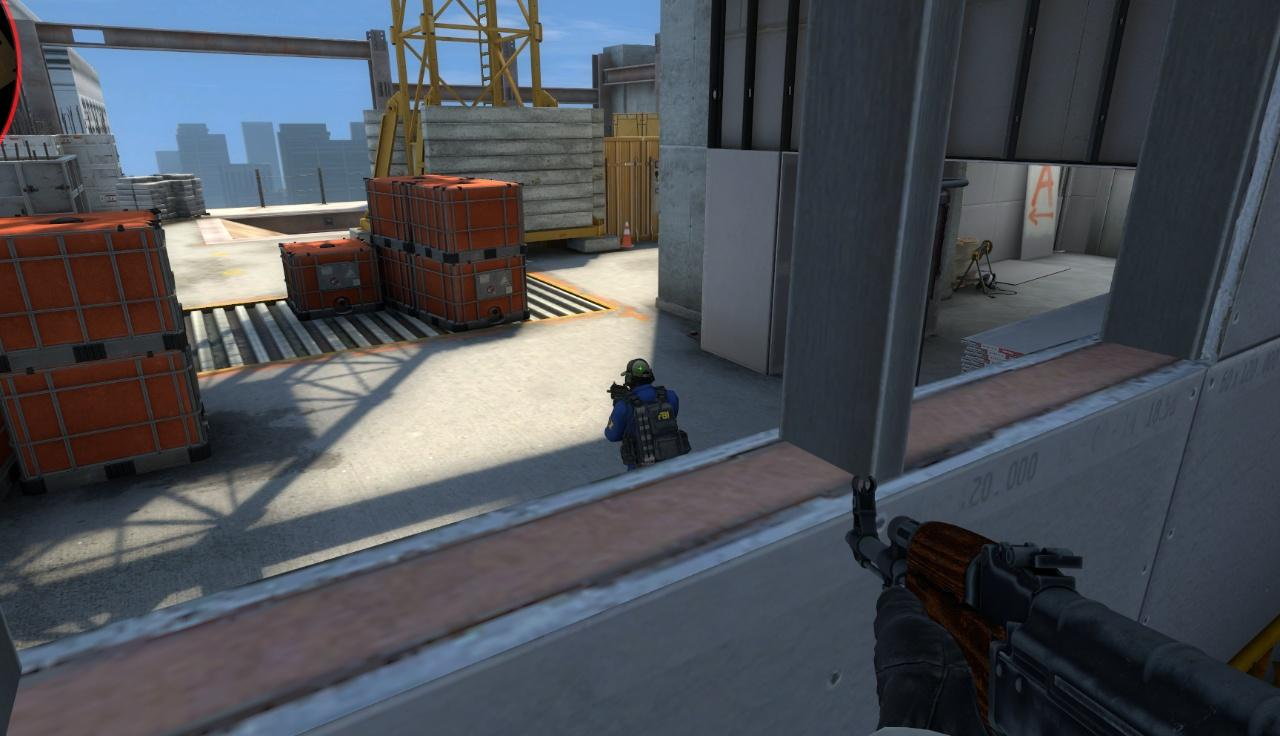ct: (604, 358, 678, 459)
cthead: (623, 360, 655, 388)
rifle: (845, 470, 1280, 736)
